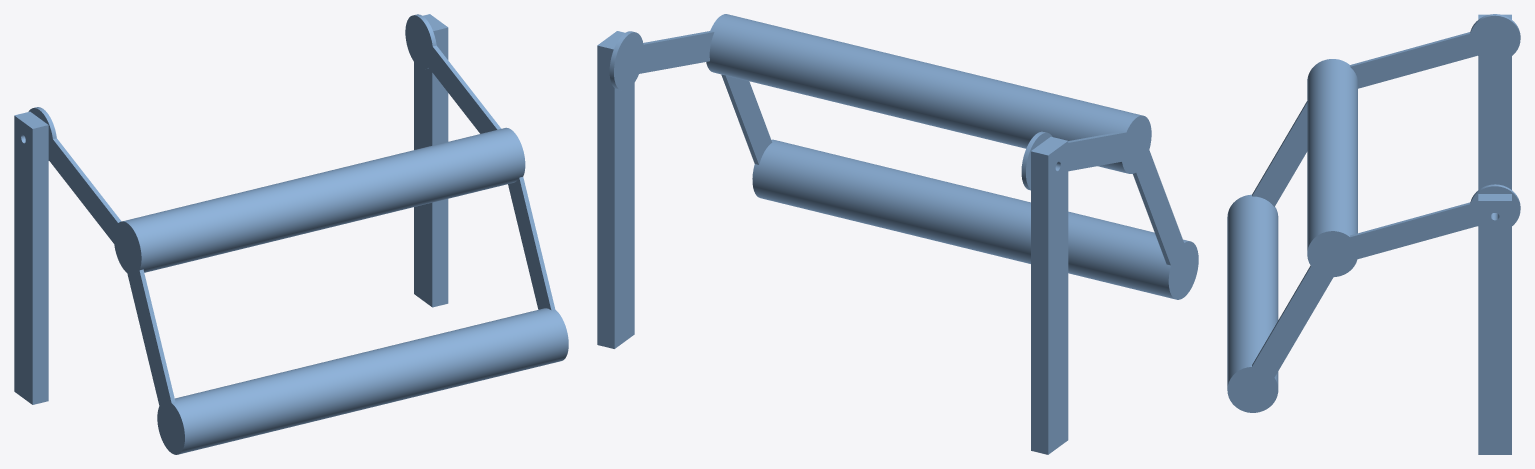
The model's file is Slap Down Intake.dae.
3 views of the same model, side by side, from view 1: azimuth 30°, elevation 25°; view 2: azimuth 150°, elevation 25°; view 3: azimuth 270°, elevation 25° (orthographic). The views are drawn at different scales.
Parts seen in each view (by area): view 1: Rollers, 2x1 (×2); view 2: Rollers, 2x1 (×2); view 3: Rollers, 2x1 (×2).
Part boxes in pixels (x1,y1,x2,y2): Rollers: [28, 14, 568, 454]; 2x1 (×2): [14, 14, 448, 404]; Rollers: [609, 14, 1198, 299]; 2x1 (×2): [597, 31, 1068, 454]; Rollers: [1227, 14, 1520, 412]; 2x1 (×2): [1478, 14, 1511, 454].
Size of the model in its own units: 0.6604 by 0.4386 by 0.4318.
